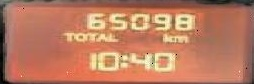0: (93, 50, 118, 70), (149, 50, 174, 70), (129, 11, 147, 29)
1: (87, 50, 96, 70)
4: (127, 51, 149, 69)
5: (107, 11, 127, 29)
6: (85, 11, 105, 29)
8: (172, 13, 192, 29)
9: (149, 13, 171, 30)
X: (118, 53, 129, 67), (71, 31, 85, 40), (171, 34, 187, 41), (105, 31, 116, 40), (160, 33, 171, 42), (60, 31, 71, 40), (94, 31, 105, 40), (85, 31, 94, 40)
